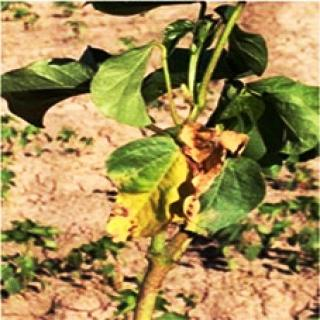wilt: (111, 118, 244, 236)
